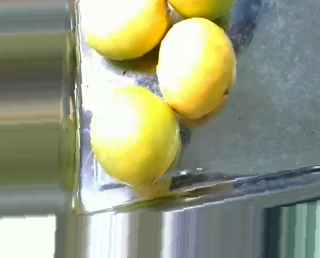Mango: (90, 84, 180, 184), (156, 17, 237, 121), (81, 0, 169, 59), (167, 0, 235, 19)
